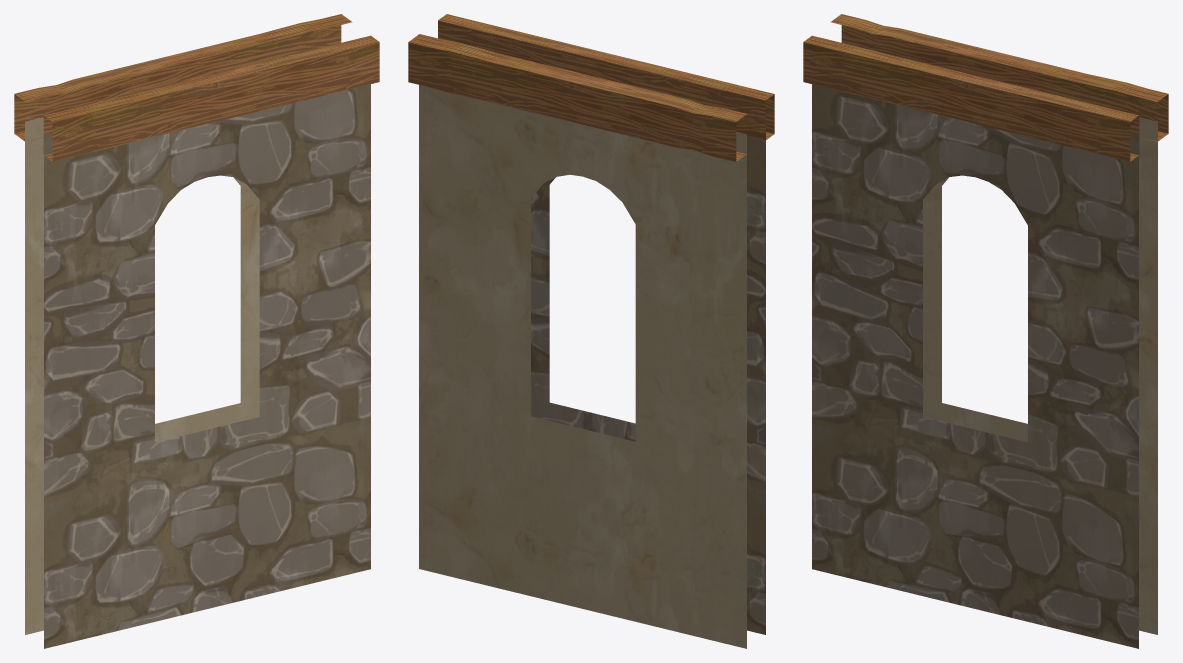
File: Wall_UnevenBrick_Window_Thin_Round.glb
3 renders of one model, left to right at view 1: azimuth 30°, elevation 25°; view 2: azimuth 150°, elevation 25°; view 3: azimuth 330°, elevation 25°, orthographic.
Visible parts, largest first — view 1: Wall_UnevenBrick_Window_Thin_Round; view 2: Wall_UnevenBrick_Window_Thin_Round; view 3: Wall_UnevenBrick_Window_Thin_Round.
Boxes of the visible parts, bbox=[...] form: Wall_UnevenBrick_Window_Thin_Round: bbox=[14, 14, 379, 648]; Wall_UnevenBrick_Window_Thin_Round: bbox=[408, 14, 774, 648]; Wall_UnevenBrick_Window_Thin_Round: bbox=[803, 14, 1168, 648].
Bounding box in the file's own units: 2 × 3.12 × 0.4065.
Materials: 3 (3 with a texture image).
